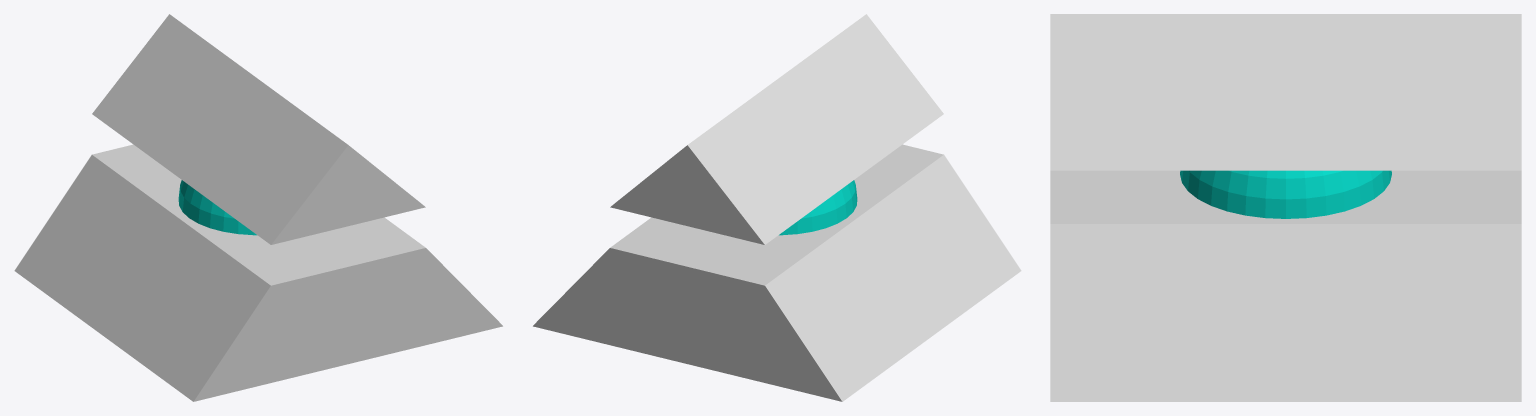
The model's file is UFO.fbx.
The picture shows the model from 3 angles, left to right: view 1: azimuth 30°, elevation 25°; view 2: azimuth 150°, elevation 25°; view 3: azimuth 270°, elevation 25°; orthographic projection. The views are drawn at different scales.
Visible parts, largest first — view 1: Sphere; view 2: Sphere; view 3: Sphere.
Boxes of the visible parts, x1,y1,x2,y2 form: Sphere: [14, 14, 502, 401]; Sphere: [533, 14, 1021, 401]; Sphere: [1050, 14, 1521, 401].
Bounding box in the file's own units: 200 × 155 × 200.
